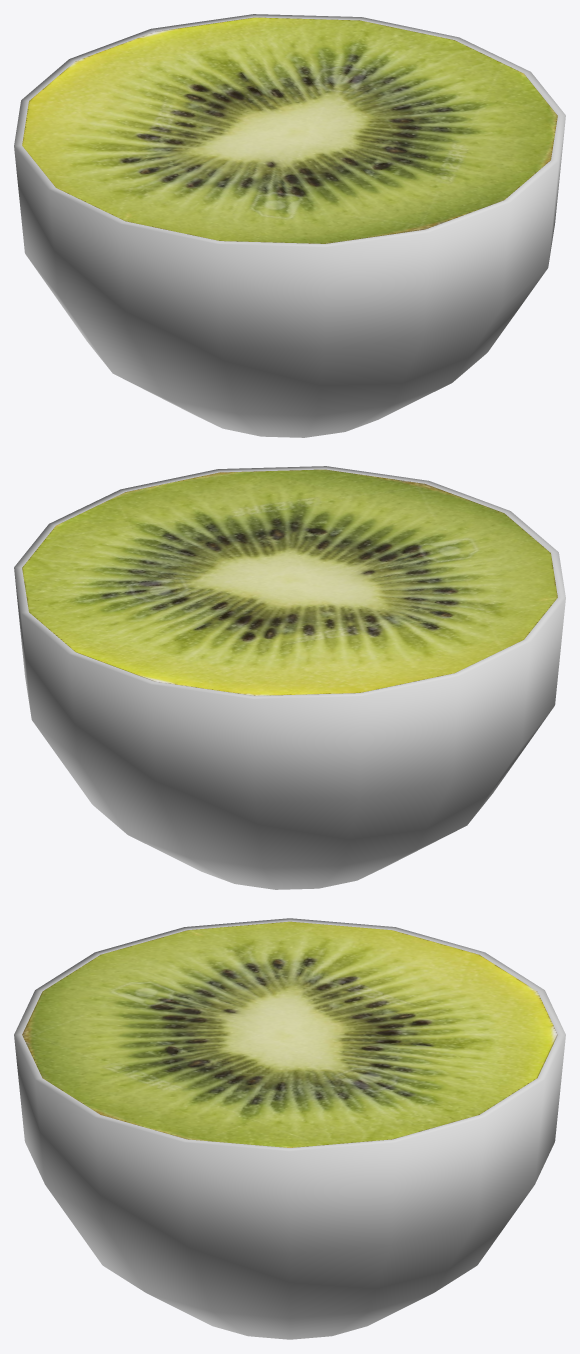
The model's file is kiwi-semi.fbx.
3 views of the same model, one above another, from view 1: azimuth 30°, elevation 25°; view 2: azimuth 150°, elevation 25°; view 3: azimuth 270°, elevation 25° (orthographic).
Parts seen in each view (by area): view 1: kiwi-semi; view 2: kiwi-semi; view 3: kiwi-semi.
Boxes of the visible parts, x1,y1,x2,y2 form: kiwi-semi: (14, 14, 565, 437); kiwi-semi: (14, 466, 565, 889); kiwi-semi: (14, 918, 565, 1339).
Size of the model in its own units: 192 by 108 by 192.
2 materials, 1 textured.
